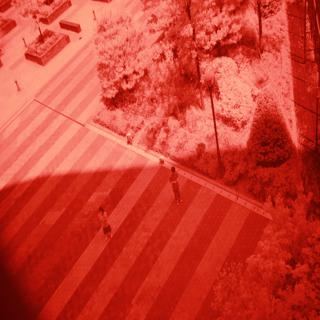person: (91, 199, 123, 247), (164, 161, 183, 208)
